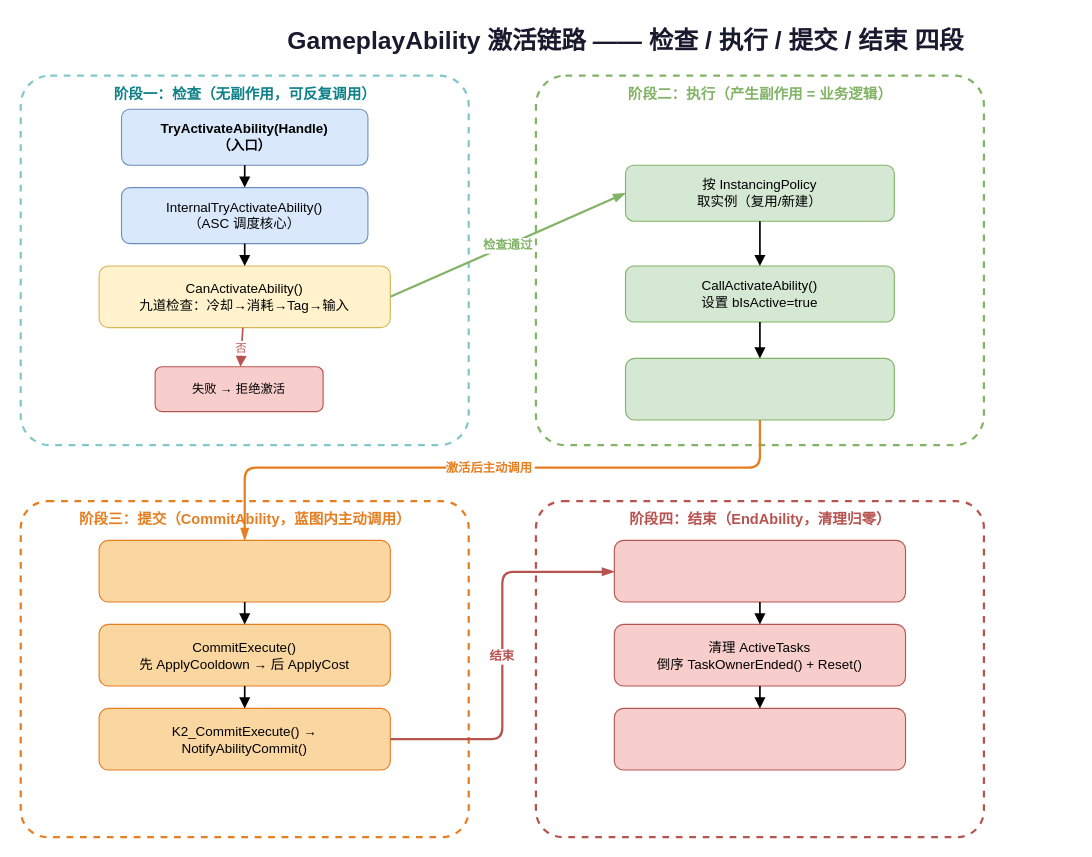
Image size: 1092x857. Some labels were removed from this diagram. The shapes that lost their labels are listed below. From the top down, each one's centre as x and y in pixels, then its label:
At (759,388): "ActivateAbility() → 蓝图 K2_ActivateAbility".
At (244,570): "CommitCheck() 先 CheckCooldown → 后 CheckCost".
At (759,570): "K2_OnEndAbility() （蓝图回调，最先触发）".
At (759,738): "移除 Tags / 清理 Cue / NotifyAbilityEnded()".
